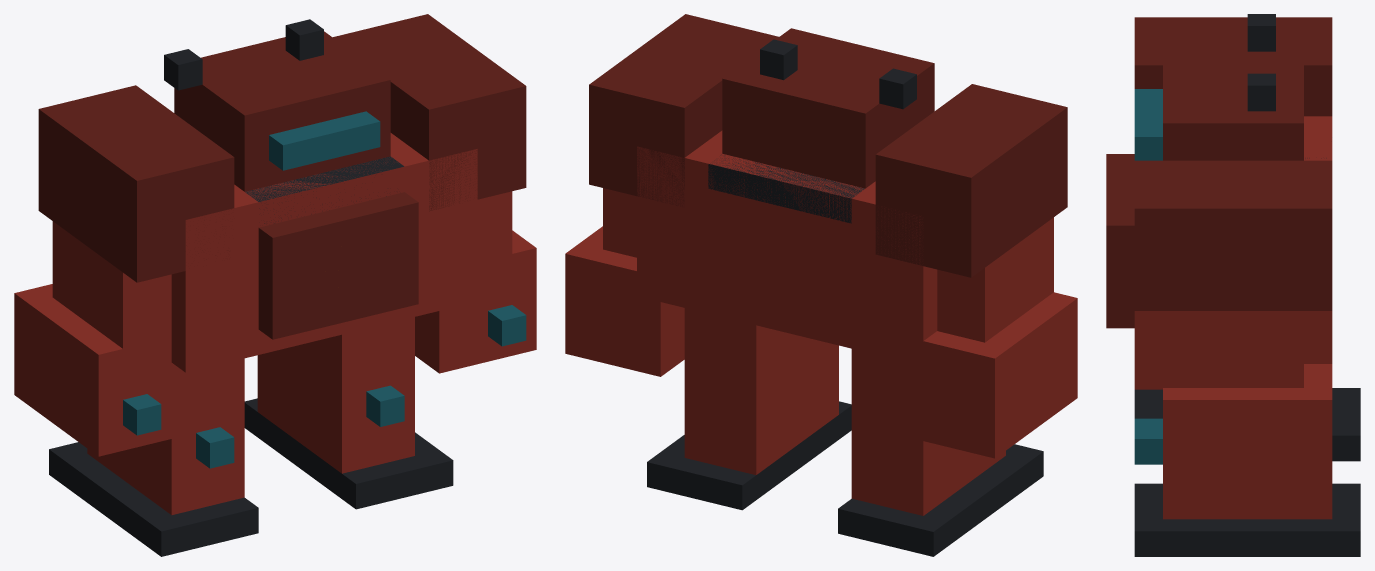
File: mech_boss_damaged.glb
3 renders of one model, left to right at view 1: azimuth 30°, elevation 25°; view 2: azimuth 150°, elevation 25°; view 3: azimuth 270°, elevation 25°, orthographic. The views are drawn at different scales.
Parts seen in each view (by area): view 1: Torso mesh, Pauldron L mesh, Pauldron R mesh, Head mesh, Fist L mesh, Leg R mesh, Chest mesh, Feet mesh, Leg L mesh, Arm L mesh, Fist R mesh, Visor mesh (+3 smaller); view 2: Torso mesh, Pauldron L mesh, Head mesh, Leg R mesh, Pauldron R mesh, Fist L mesh, Feet mesh, Leg L mesh, Fist R mesh, Arm L mesh, Belt mesh, Horn mesh (+1 smaller); view 3: Pauldron R mesh, Fist R mesh, Head mesh, Feet mesh, Arm R mesh, Pauldron L mesh, Torso mesh, Chest mesh, Leg R mesh, Horn mesh, Visor mesh.
Boxes of the visible parts, left/top/right/bottom form: Torso mesh: left=171, top=133, right=477, bottom=372; Pauldron L mesh: left=38, top=85, right=234, bottom=282; Pauldron R mesh: left=333, top=14, right=526, bottom=211; Head mesh: left=174, top=31, right=390, bottom=191; Fist L mesh: left=14, top=284, right=195, bottom=456; Leg R mesh: left=257, top=317, right=414, bottom=473; Chest mesh: left=258, top=192, right=418, bottom=339; Feet mesh: left=49, top=398, right=453, bottom=556; Leg L mesh: left=87, top=358, right=244, bottom=515; Arm L mesh: left=52, top=221, right=171, bottom=374; Fist R mesh: left=415, top=230, right=536, bottom=373; Visor mesh: left=269, top=111, right=380, bottom=170; Torso mesh: left=637, top=130, right=937, bottom=365; Pauldron L mesh: left=875, top=84, right=1067, bottom=277; Head mesh: left=722, top=28, right=934, bottom=188; Leg R mesh: left=684, top=308, right=838, bottom=474; Pauldron R mesh: left=589, top=14, right=778, bottom=206; Fist L mesh: left=899, top=292, right=1077, bottom=458; Feet mesh: left=647, top=401, right=1043, bottom=556; Leg L mesh: left=851, top=349, right=1005, bottom=515; Fist R mesh: left=565, top=226, right=684, bottom=376; Arm L mesh: left=937, top=217, right=1053, bottom=342; Belt mesh: left=708, top=154, right=864, bottom=223; Horn mesh: left=760, top=39, right=916, bottom=109; Pauldron R mesh: left=1134, top=160, right=1332, bottom=310; Fist R mesh: left=1134, top=364, right=1332, bottom=502; Head mesh: left=1163, top=51, right=1303, bottom=160; Feet mesh: left=1134, top=388, right=1360, bottom=556; Arm R mesh: left=1163, top=311, right=1303, bottom=387; Pauldron L mesh: left=1134, top=17, right=1332, bottom=116; Torso mesh: left=1134, top=116, right=1332, bottom=389; Chest mesh: left=1106, top=154, right=1134, bottom=328; Leg R mesh: left=1134, top=418, right=1332, bottom=519; Horn mesh: left=1247, top=14, right=1275, bottom=111; Visor mesh: left=1134, top=89, right=1162, bottom=160.
Size of the model in its own units: 18 by 17 by 9.
Materials: 1 (1 with a texture image).
